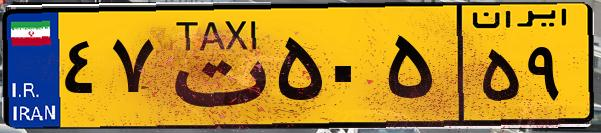0: (330, 28, 385, 110)
4: (57, 26, 110, 100)
5: (270, 28, 330, 110), (385, 28, 445, 110), (475, 38, 525, 113)
7: (110, 28, 158, 98)
9: (525, 38, 570, 115)
ت: (158, 12, 270, 120)
